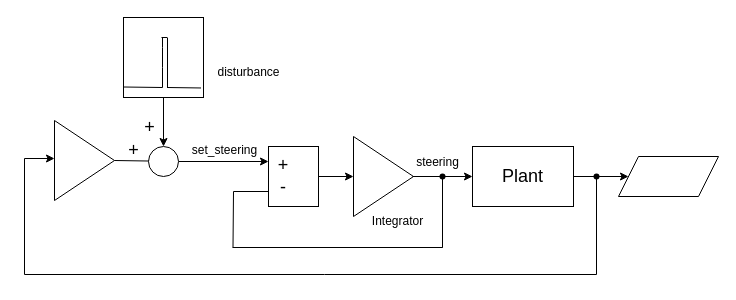
This 736x300 diagram has some shape labels left out. The centre of each missing label's shape, as x and y in pixels:
"azimuth" belongs at pixel 668 176.
"PID" belongs at pixel 84 160.
